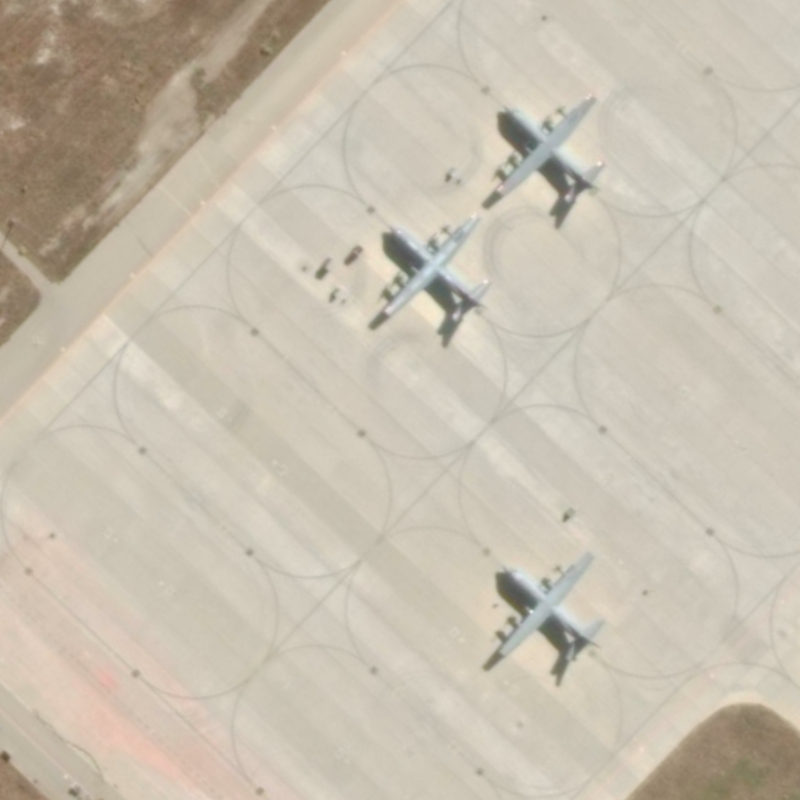A2: (473, 546, 614, 680), (484, 89, 614, 217), (369, 211, 499, 336)
